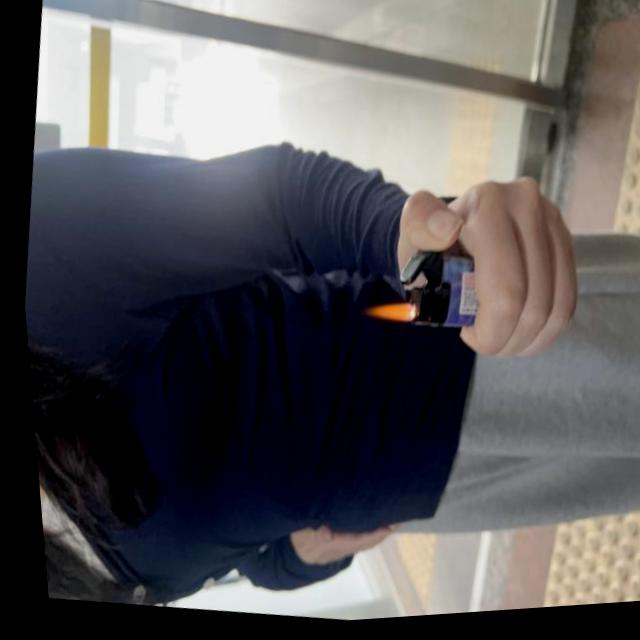Fire: (355, 300, 417, 336)
